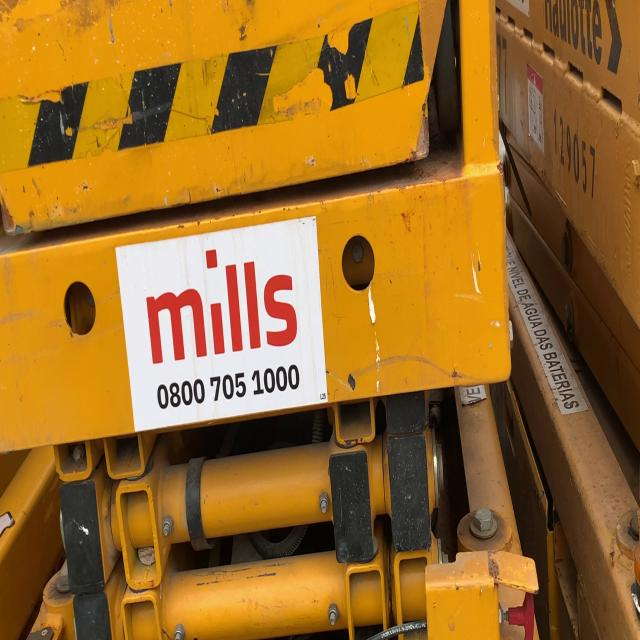Adesivos: (112, 212, 330, 436)
